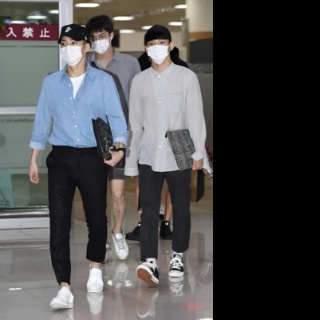with_mask: (60, 36, 84, 66), (147, 39, 170, 64), (89, 31, 112, 54)
